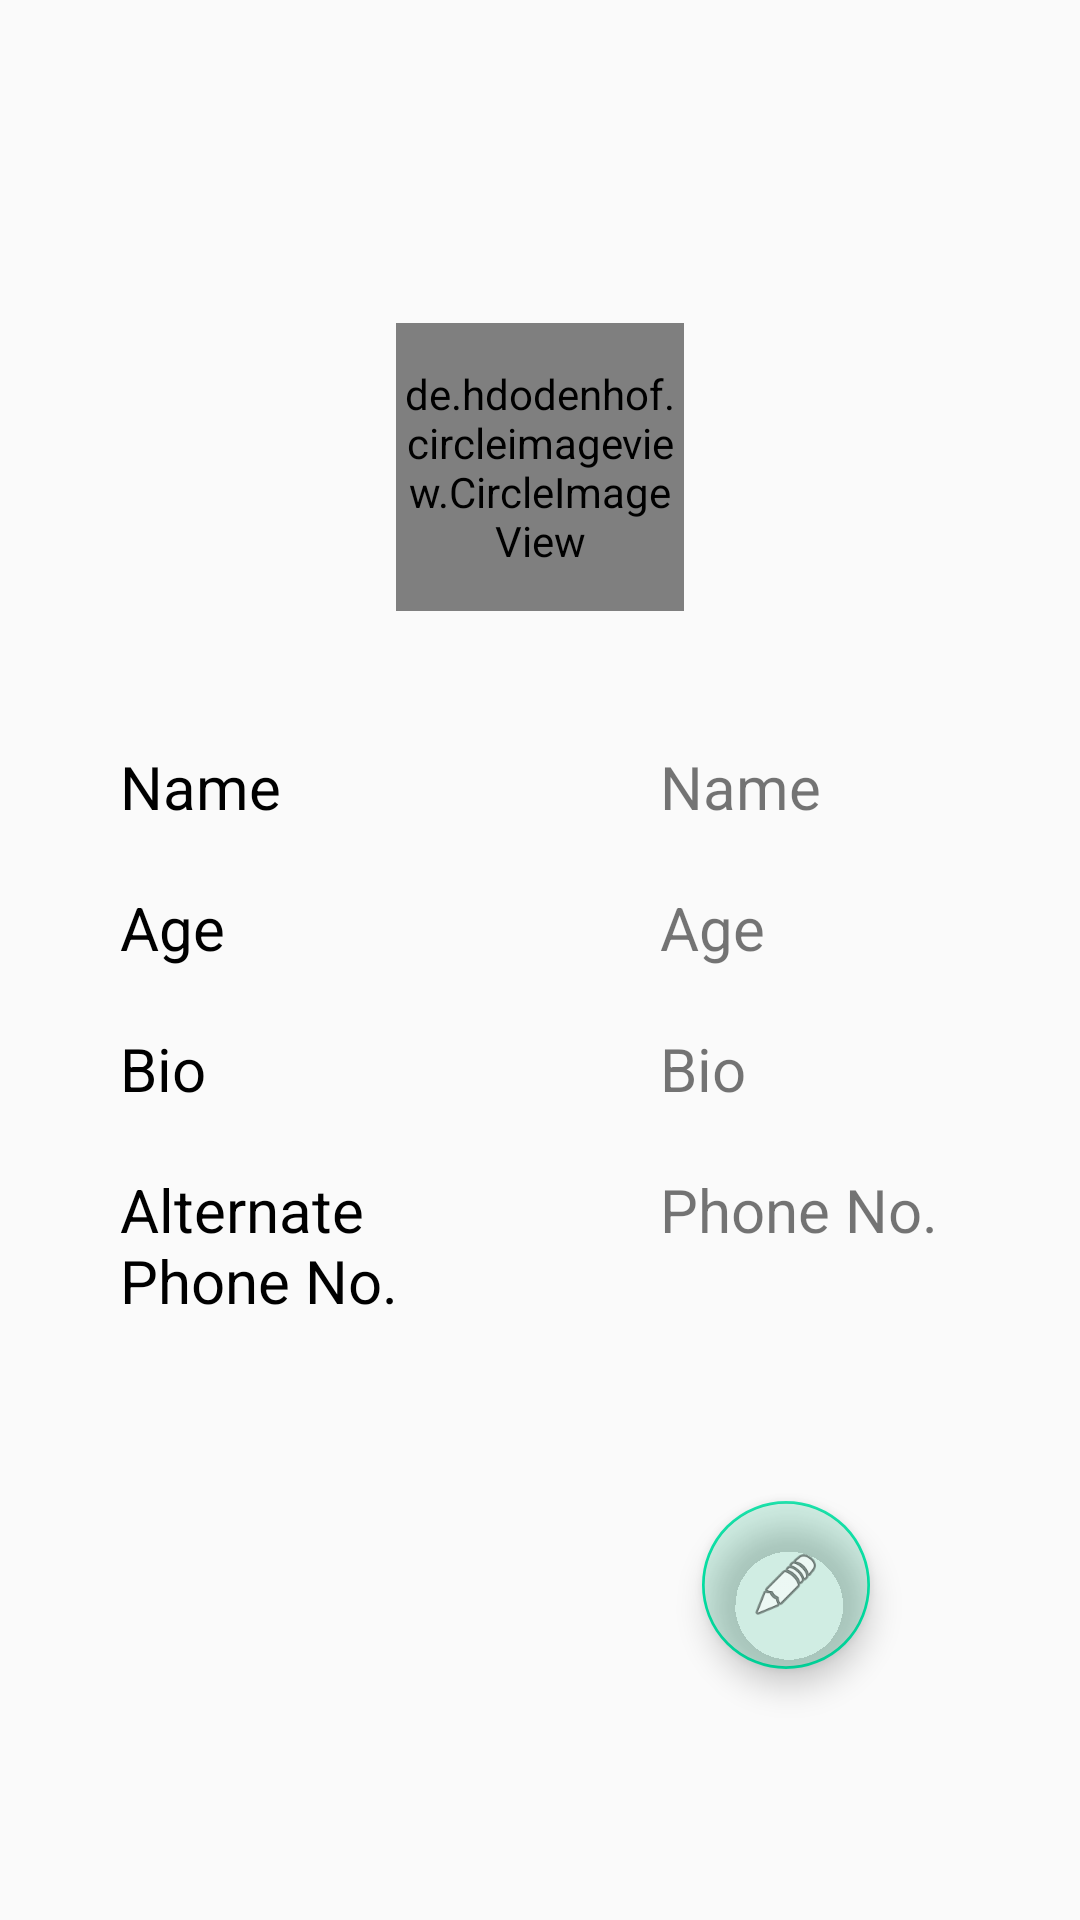

Where icons sit on this 1080*1920 app screen, as (x1, y1, x2, y2):
edit: (702, 1501, 870, 1669)
